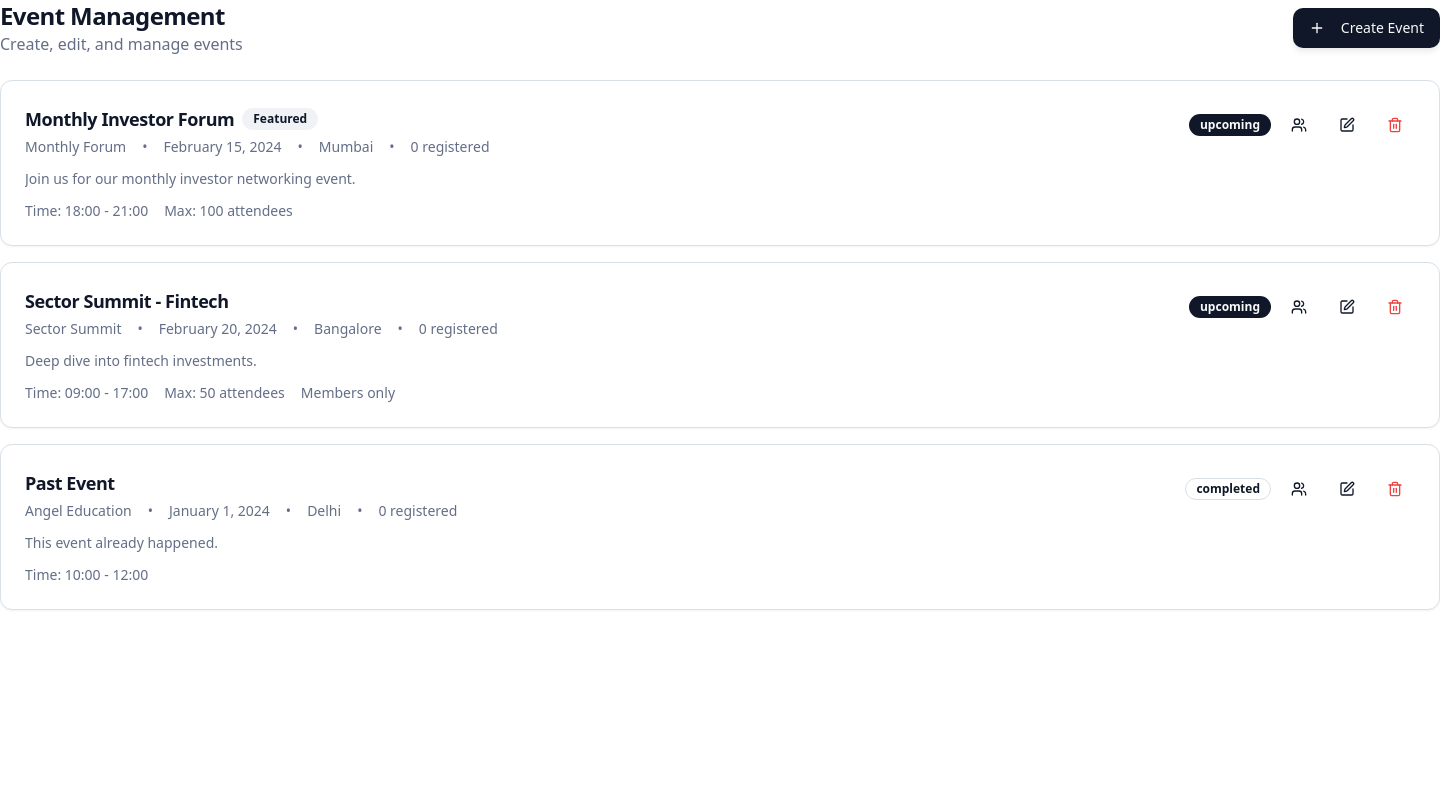
Test: US-ADMIN-003: Event Management › Create Event › should open event form when clicking Create Event button
expect the text "Monthly Investor Forum" is shown: met, box x1=25 y1=105 x2=234 y2=133
Click the button "Create Event": point(1366, 28) x1=1293 y1=8 x2=1439 y2=48
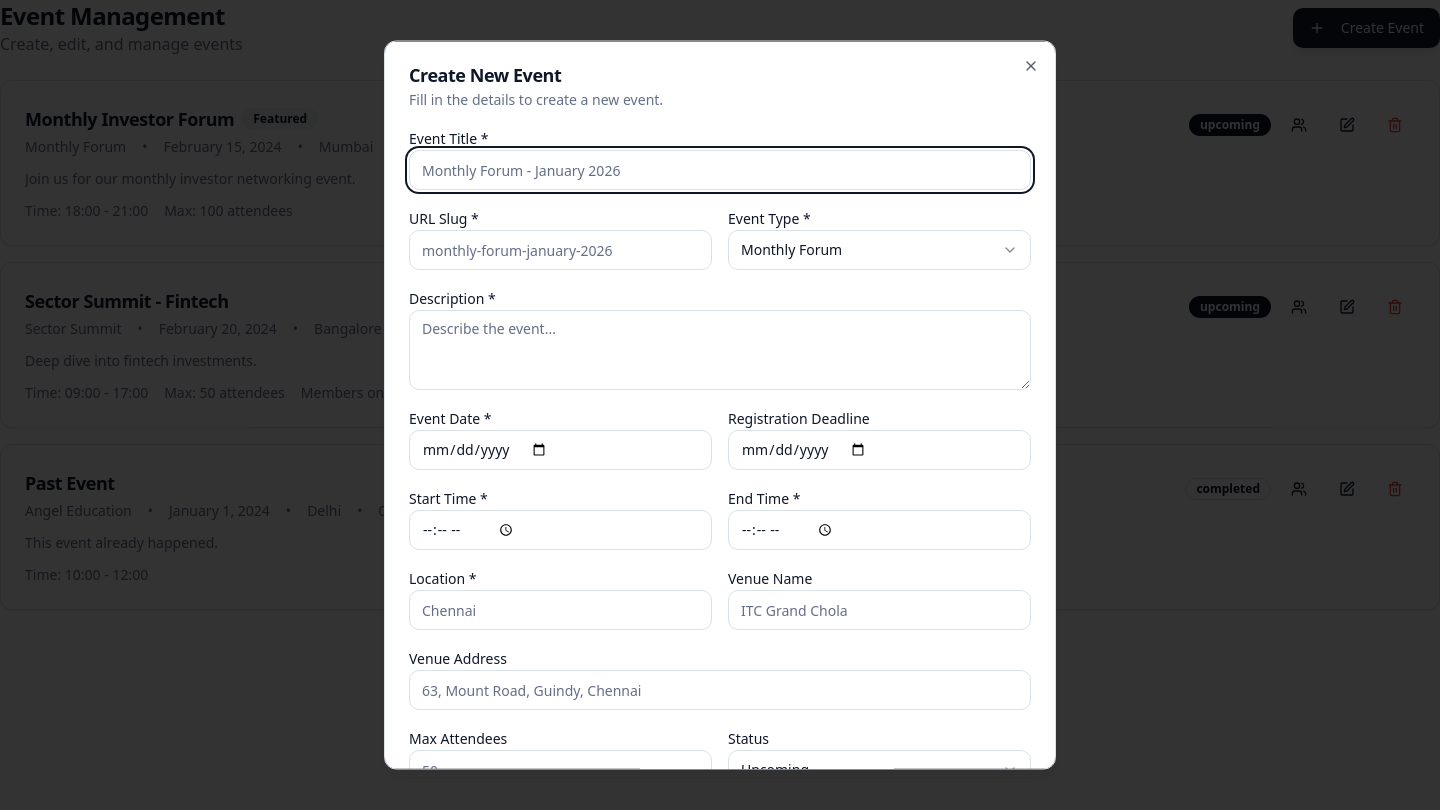
expect the dialog is shown: met, box x1=384 y1=40 x2=1056 y2=770
